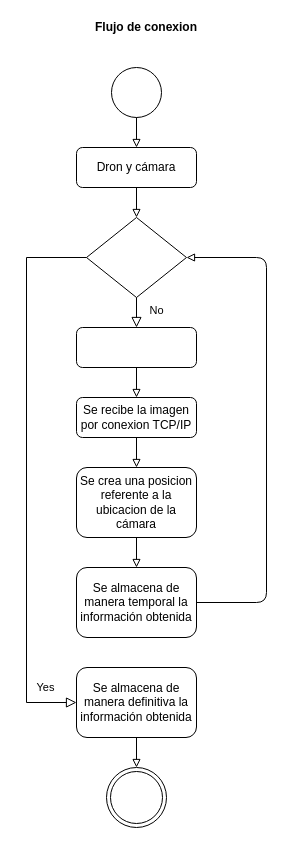
Some shapes in this 292 by 845 pixel diagram are drawn without their labels. Here are the shapes that lost their labels. From the top down, the box of each, then its label:
(86, 216, 186, 298): Ultimo fotograma
(76, 326, 196, 368): Se envia la imagen
